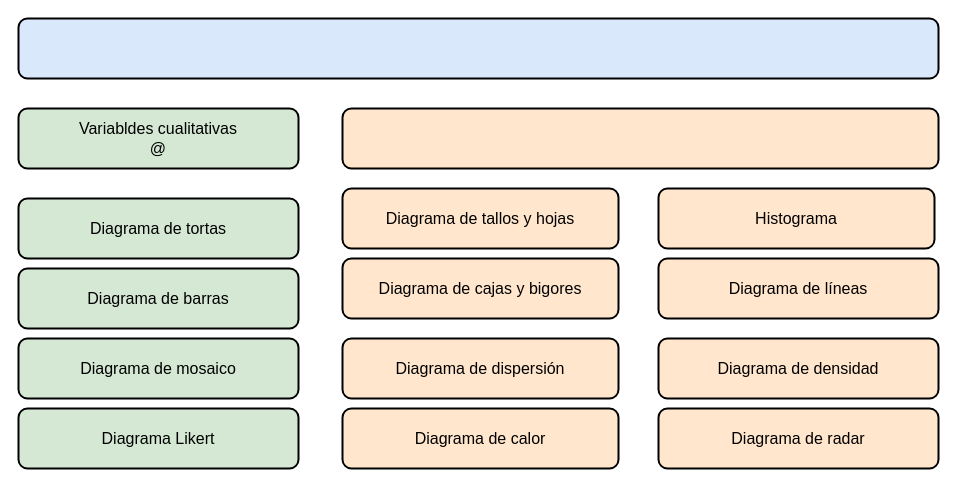
This 956x486 diagram has some shape labels left out. The shapes that lost their labels are listed below. From the top down, each one's centre as x and y in pixels, then its label:
At point 478,48: "Visualización de datos".
At point 640,138: "Variables cuantitativas #".
